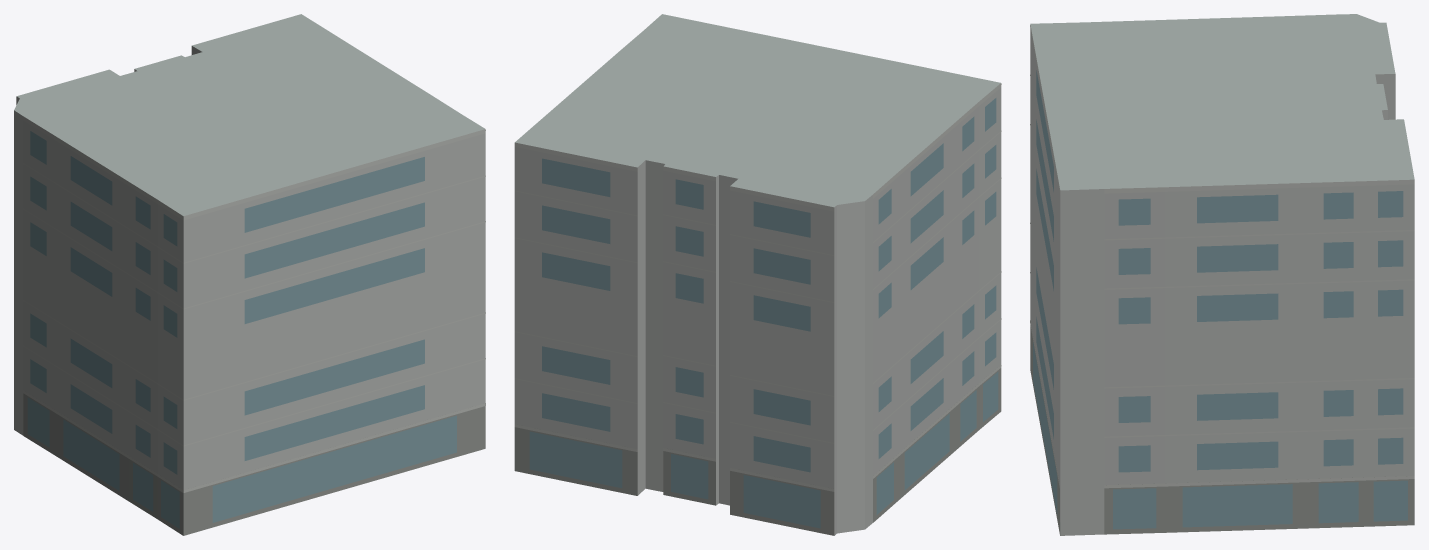
File: survey-upis-32621888.glb
3 views of the same model, side by side, from view 1: azimuth 30°, elevation 25°; view 2: azimuth 150°, elevation 25°; view 3: azimuth 270°, elevation 25° (orthographic). The views are drawn at different scales.
Visible parts, largest first — view 1: survey-upis-32621888.tmp; view 2: survey-upis-32621888.tmp; view 3: survey-upis-32621888.tmp.
Boxes of the visible parts, left/top/right/bottom form: survey-upis-32621888.tmp: left=14, top=14, right=485, bottom=535; survey-upis-32621888.tmp: left=514, top=14, right=1001, bottom=535; survey-upis-32621888.tmp: left=1030, top=14, right=1414, bottom=535.
Bounding box in the file's own units: 19.83 × 18.1 × 18.28.
